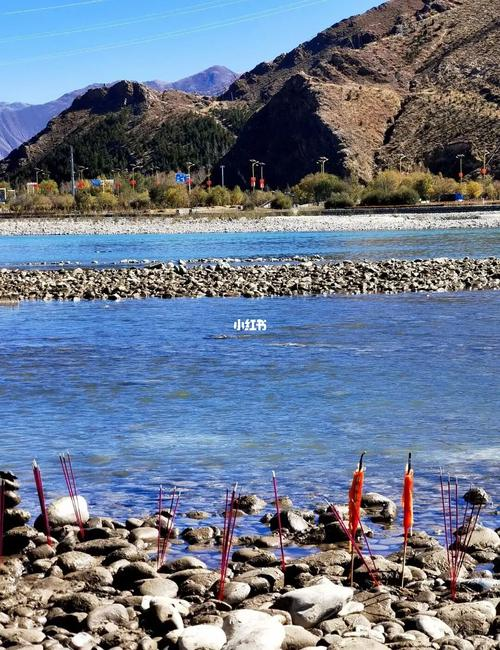mountain: (217, 19, 483, 181)
sea_river: (18, 296, 489, 463)
